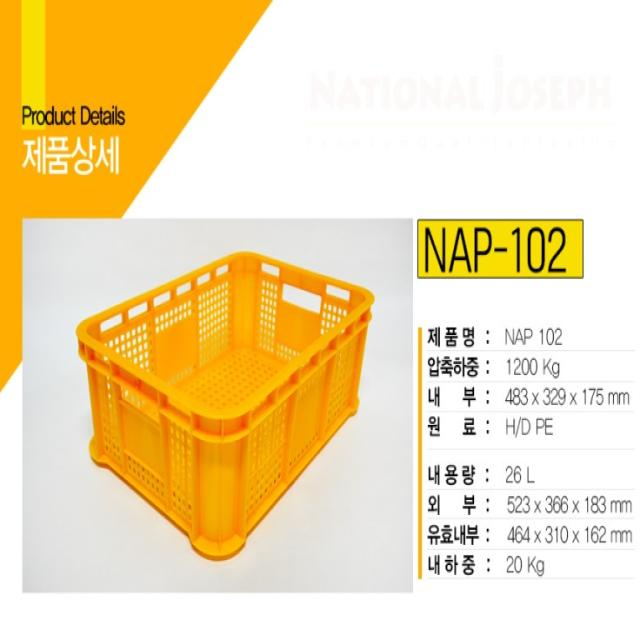basket: (17, 162, 422, 572)
